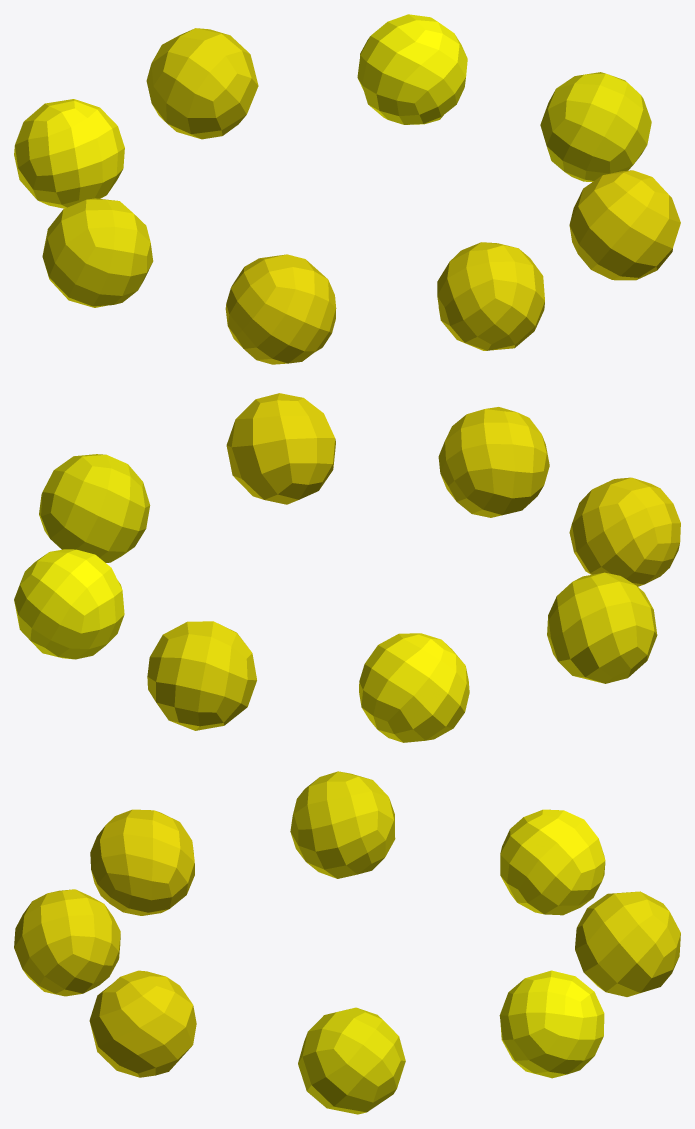
File: Yellow_spheres.fbx
The picture shows the model from 3 angles, top to bottom: view 1: azimuth 30°, elevation 25°; view 2: azimuth 150°, elevation 25°; view 3: azimuth 270°, elevation 25°; orthographic projection. The views are drawn at different scales.
Parts seen in each view (by area): view 1: Esferas 55-70 faces; view 2: Esferas 55-70 faces; view 3: Esferas 55-70 faces.
Part boxes in pixels (box(x1,y1,x2,y2)): Esferas 55-70 faces: box(14, 14, 680, 364); Esferas 55-70 faces: box(14, 393, 680, 742); Esferas 55-70 faces: box(14, 771, 680, 1114).
Bounding box in the file's own units: 264 × 42.86 × 265.
